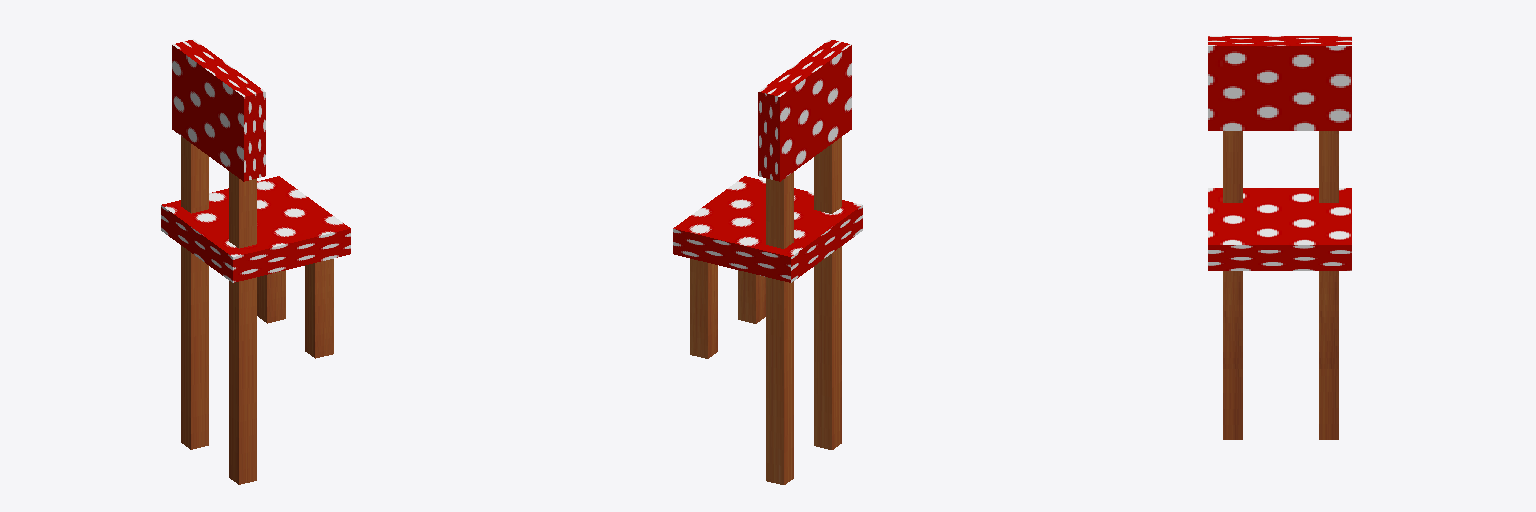
3 renders of one model, left to right at view 1: azimuth 30°, elevation 25°; view 2: azimuth 150°, elevation 25°; view 3: azimuth 270°, elevation 25°, orthographic.
Parts seen in each view (by area): view 1: polySurface1; view 2: polySurface1; view 3: polySurface1.
Boxes of the visible parts, box(x1,y1,x2,y2) form: polySurface1: box(161, 39, 350, 484); polySurface1: box(673, 39, 862, 484); polySurface1: box(1208, 36, 1351, 439).
Bounding box in the file's own units: 2.26 × 7.2 × 2.38.
Materials: 1 (1 with a texture image).